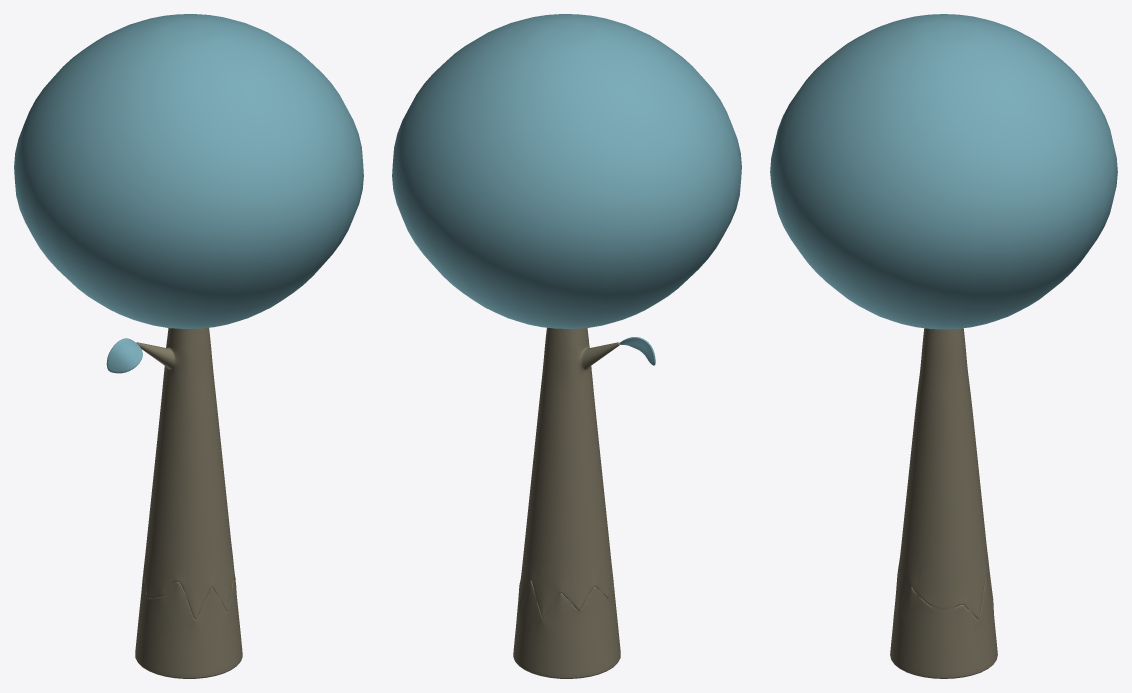
The model's file is SM_20013ArvoreQuebrada.fbx.
The picture shows the model from 3 angles, left to right: view 1: azimuth 30°, elevation 25°; view 2: azimuth 150°, elevation 25°; view 3: azimuth 270°, elevation 25°; orthographic projection.
Visible parts, largest first — view 1: SM_20013ArvoreQuebrada_geo_2, SM_20013ArvoreQuebrada_geo_1, SM_20013ArvoreQuebrada_geo_4, SM_20013ArvoreQuebrada_geo_3, SM_20013ArvoreQuebrada_geo_5; view 2: SM_20013ArvoreQuebrada_geo_2, SM_20013ArvoreQuebrada_geo_1, SM_20013ArvoreQuebrada_geo_4, SM_20013ArvoreQuebrada_geo_3; view 3: SM_20013ArvoreQuebrada_geo_2, SM_20013ArvoreQuebrada_geo_1, SM_20013ArvoreQuebrada_geo_4, SM_20013ArvoreQuebrada_geo_3.
Part boxes in pixels (x1,y1,x2,y2): SM_20013ArvoreQuebrada_geo_2: (14, 14, 363, 328); SM_20013ArvoreQuebrada_geo_1: (135, 329, 242, 678); SM_20013ArvoreQuebrada_geo_4: (143, 327, 235, 619); SM_20013ArvoreQuebrada_geo_3: (140, 574, 238, 650); SM_20013ArvoreQuebrada_geo_5: (106, 338, 142, 373); SM_20013ArvoreQuebrada_geo_2: (392, 14, 741, 328); SM_20013ArvoreQuebrada_geo_1: (513, 329, 620, 678); SM_20013ArvoreQuebrada_geo_4: (519, 327, 613, 618); SM_20013ArvoreQuebrada_geo_3: (515, 580, 615, 650); SM_20013ArvoreQuebrada_geo_2: (770, 14, 1117, 329); SM_20013ArvoreQuebrada_geo_1: (890, 338, 997, 678); SM_20013ArvoreQuebrada_geo_4: (898, 328, 993, 619); SM_20013ArvoreQuebrada_geo_3: (892, 572, 995, 649).
Size of the model in its own units: 221 by 435 by 219.
